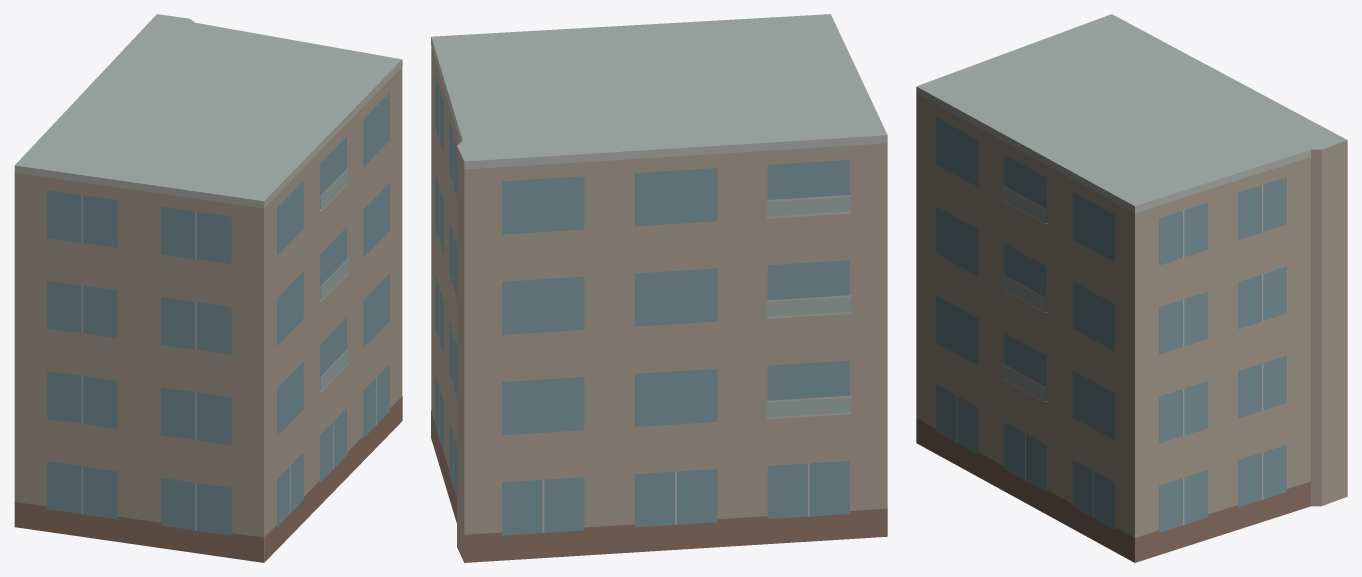
File: survey-upis-32992388.glb
The picture shows the model from 3 angles, left to right: view 1: azimuth 30°, elevation 25°; view 2: azimuth 150°, elevation 25°; view 3: azimuth 270°, elevation 25°; orthographic projection. The views are drawn at different scales.
Visible parts, largest first — view 1: survey-upis-32992388.tmp; view 2: survey-upis-32992388.tmp; view 3: survey-upis-32992388.tmp.
Boxes of the visible parts, x1,y1,x2,y2 form: survey-upis-32992388.tmp: [14, 14, 402, 562]; survey-upis-32992388.tmp: [431, 14, 887, 562]; survey-upis-32992388.tmp: [916, 14, 1347, 562].
Size of the model in its own units: 14.12 by 12.2 by 13.38.
